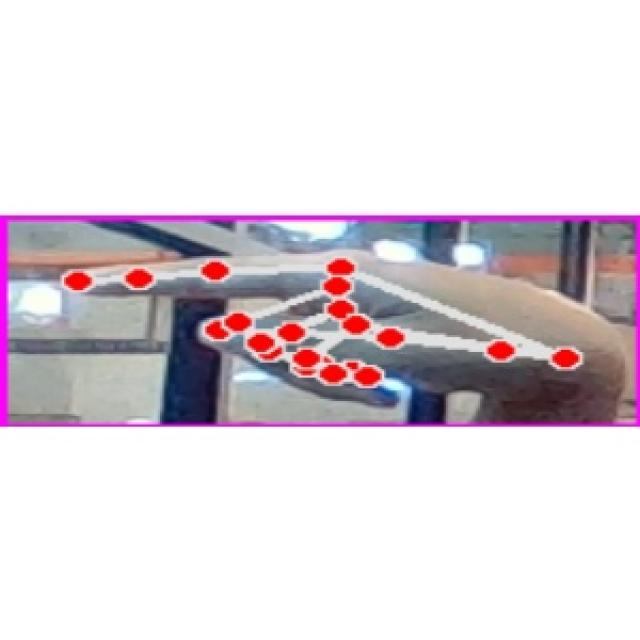G: (22, 228, 632, 407)
